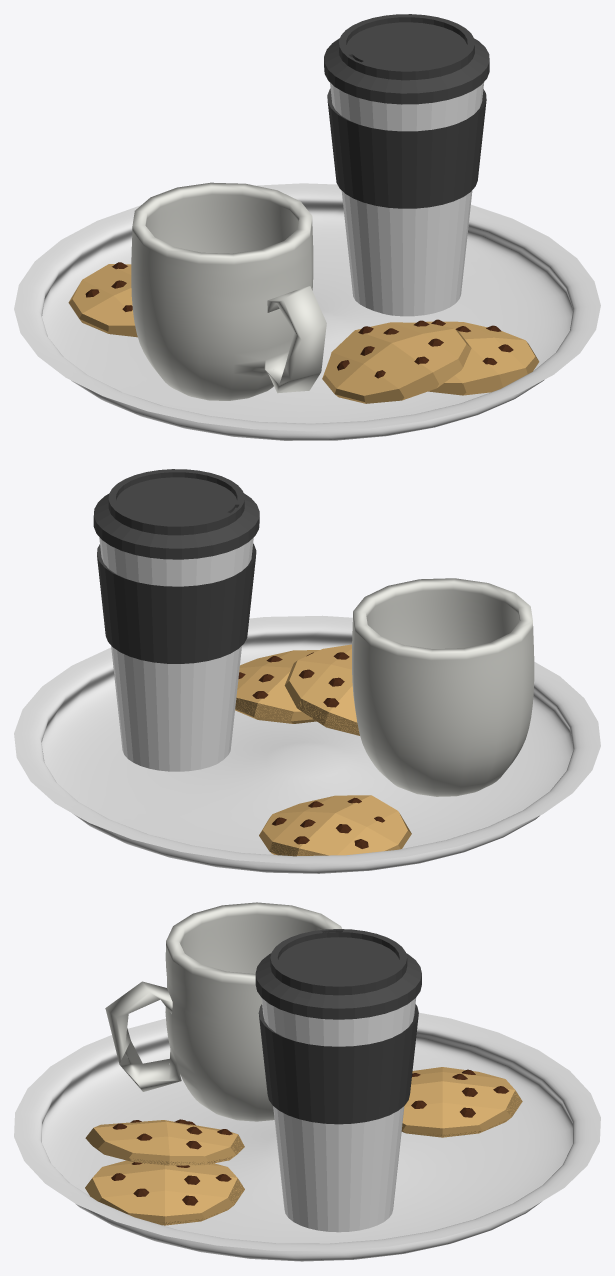
The model's file is example.gltf.
3 renders of one model, top to bottom at view 1: azimuth 30°, elevation 25°; view 2: azimuth 150°, elevation 25°; view 3: azimuth 270°, elevation 25°, orthographic.
Parts seen in each view (by area): view 1: BezierCurve, BezierCurve.001, Cup, Cover, Cookie.001, Cookie, Cookie.002, Chocolate.001; view 2: BezierCurve, BezierCurve.001, Cup, Cover, Cookie.002, Cookie.001, Cookie, Chocolate.002; view 3: BezierCurve, Cup, BezierCurve.001, Cover, Cookie, Cookie.002, Cookie.001, Chocolate, Chocolate.002, Chocolate.001.
Boxes of the visible parts, x1=… form: BezierCurve: x1=14, y1=183, x2=600, y2=440; BezierCurve.001: x1=131, y1=182, x2=326, y2=400; Cup: x1=327, y1=82, x2=486, y2=316; Cover: x1=324, y1=14, x2=489, y2=104; Cookie.001: x1=322, y1=322, x2=471, y2=403; Cookie: x1=426, y1=321, x2=539, y2=395; Cookie.002: x1=68, y1=264, x2=137, y2=337; Chocolate.001: x1=337, y1=320, x2=443, y2=378; BezierCurve: x1=14, y1=615, x2=600, y2=873; BezierCurve.001: x1=352, y1=578, x2=534, y2=796; Cup: x1=97, y1=537, x2=256, y2=771; Cover: x1=93, y1=469, x2=259, y2=559; Cookie.002: x1=259, y1=795, x2=411, y2=856; Cookie.001: x1=284, y1=644, x2=359, y2=735; Cookie: x1=235, y1=650, x2=319, y2=723; Chocolate.002: x1=272, y1=797, x2=384, y2=848; BezierCurve: x1=14, y1=1012, x2=600, y2=1261; Cup: x1=258, y1=997, x2=418, y2=1232; BezierCurve.001: x1=105, y1=902, x2=341, y2=1121; Cover: x1=255, y1=929, x2=421, y2=1019; Cookie: x1=85, y1=1160, x2=244, y2=1225; Cookie.002: x1=401, y1=1067, x2=522, y2=1137; Cookie.001: x1=85, y1=1120, x2=244, y2=1165; Chocolate: x1=111, y1=1162, x2=231, y2=1205; Chocolate.002: x1=411, y1=1069, x2=508, y2=1117; Chocolate.001: x1=112, y1=1119, x2=232, y2=1149.
Bounding box in the file's own units: 3.23 × 1.57 × 3.23.
